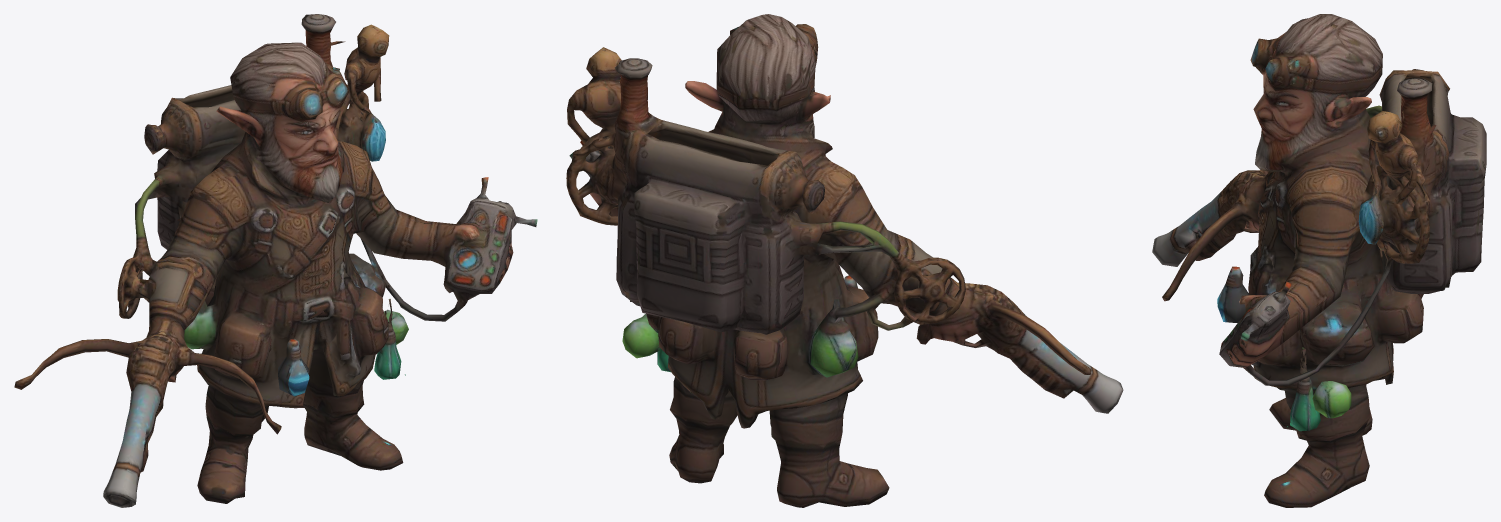
Rendered from Atificie.glb.
3 renders of one model, left to right at view 1: azimuth 30°, elevation 25°; view 2: azimuth 150°, elevation 25°; view 3: azimuth 270°, elevation 25°, orthographic. The views are drawn at different scales.
Parts seen in each view (by area): view 1: tripo_node_7dc8b8ec-0eb2-46ff-88e8-73d65513ace1; view 2: tripo_node_7dc8b8ec-0eb2-46ff-88e8-73d65513ace1; view 3: tripo_node_7dc8b8ec-0eb2-46ff-88e8-73d65513ace1.
Part boxes in pixels (x1,y1,x2,y2): tripo_node_7dc8b8ec-0eb2-46ff-88e8-73d65513ace1: (14, 14, 537, 507); tripo_node_7dc8b8ec-0eb2-46ff-88e8-73d65513ace1: (566, 14, 1123, 507); tripo_node_7dc8b8ec-0eb2-46ff-88e8-73d65513ace1: (1152, 14, 1486, 507).
Bounding box in the file's own units: 0.9908 × 0.8064 × 0.5534.
Materials: 1 (1 with a texture image).
